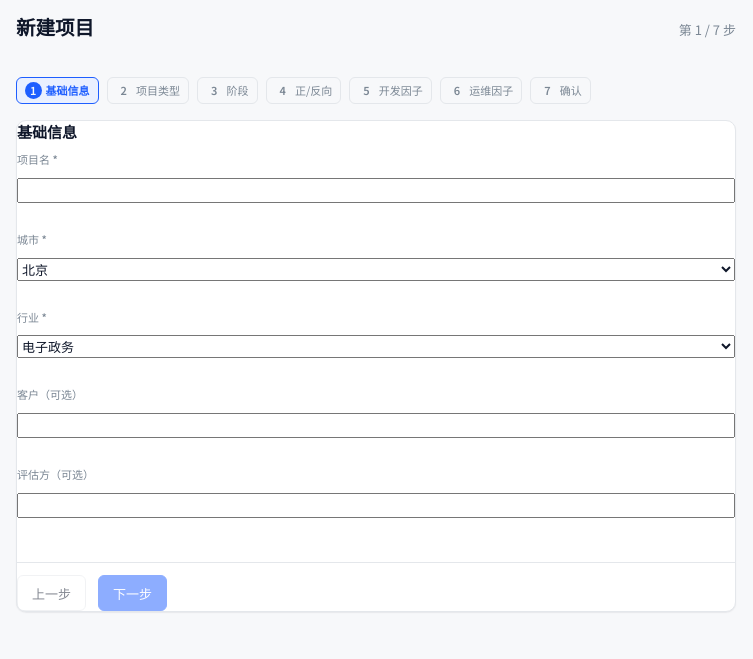
Wizard step 4 — mode + target_total (T16) › 切到 reverse 模式：target_total number input 出现
In the field named "name": (376, 191) [17,178,735,203], type "项目甲"
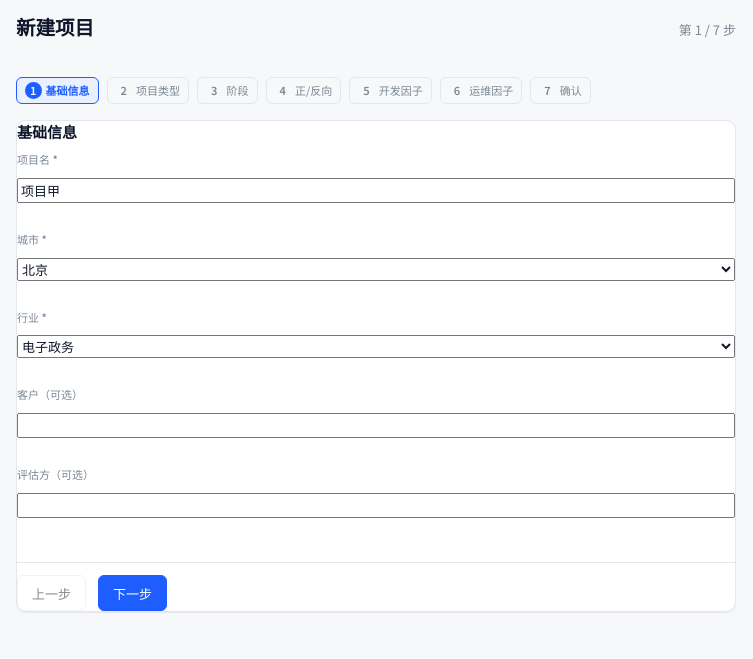
Click the button with test id "wizard-next": (132, 593) [98,575,167,611]
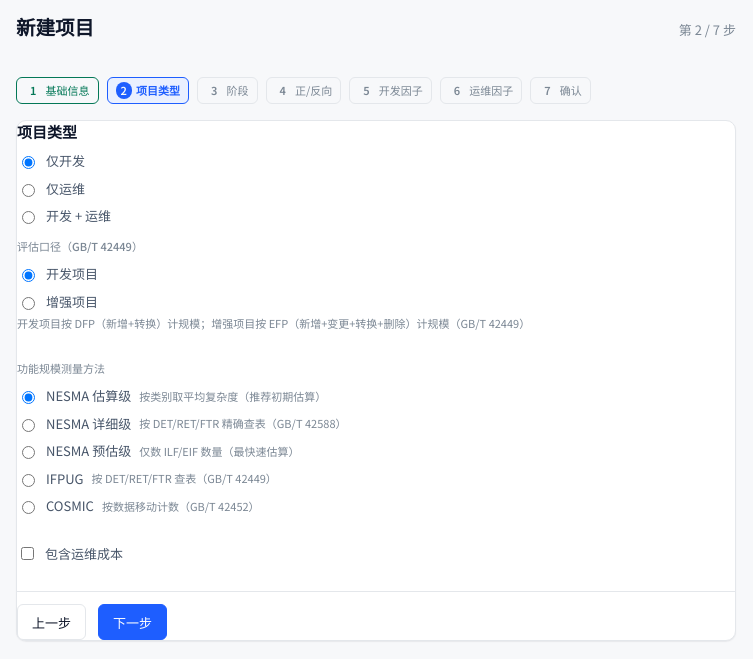
Click the button with test id "wizard-next": (132, 622) [98,604,167,640]
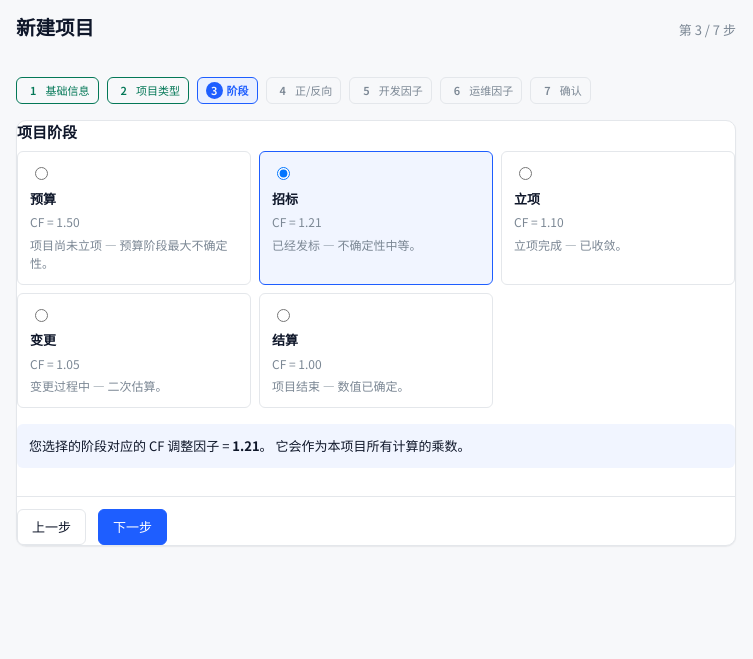
Click the button with test id "wizard-next": (132, 527) [98,509,167,545]
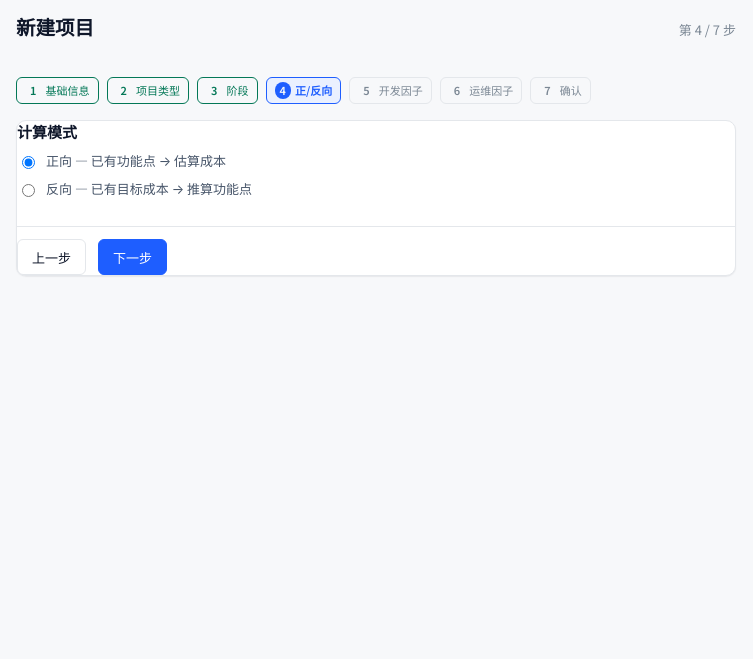
Click the radio button named "mode": (28, 190) [22,184,35,196]
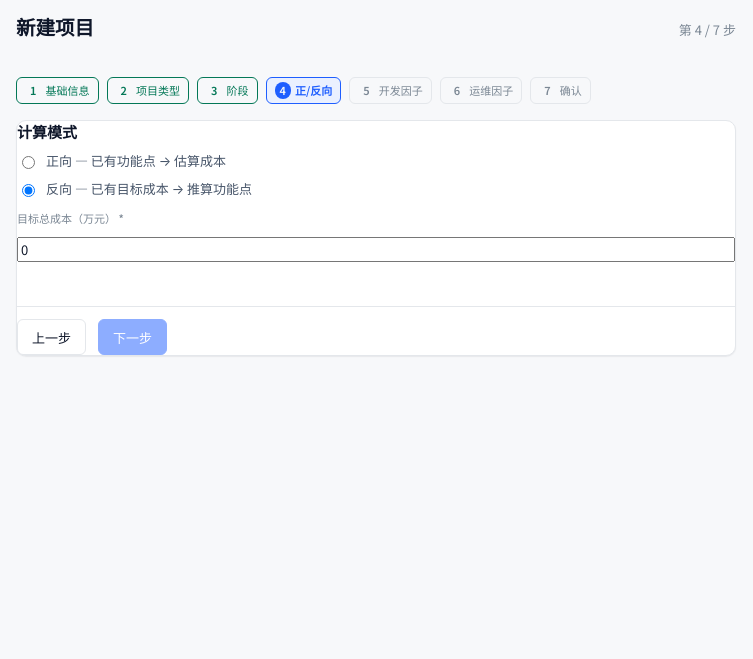
Check: the number field named "target_total" is shown, box [17,237,735,262]
